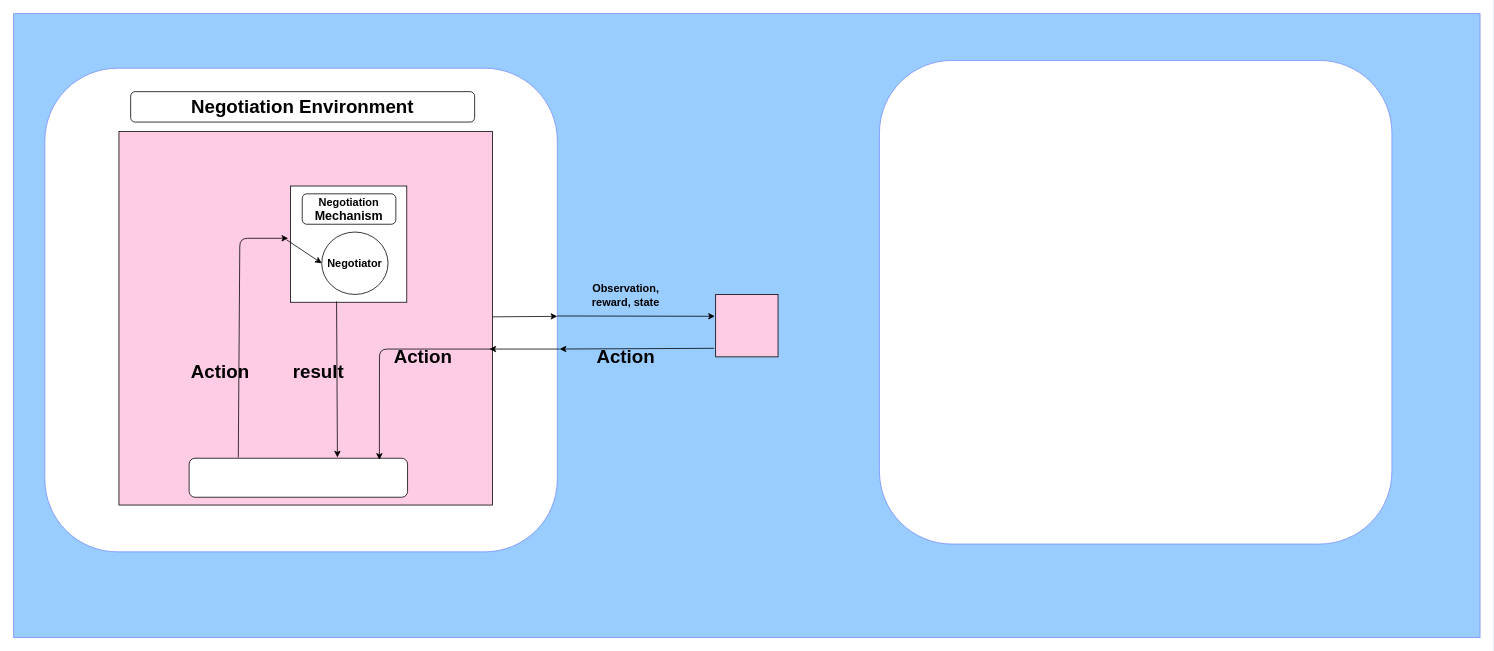
This 1494x651 diagram has some shape labels left out. Here are the shapes that lost their labels. From the top down, the centre of each, then its label:
(746,325): DRL Model
(298,477): Negotiation Game
